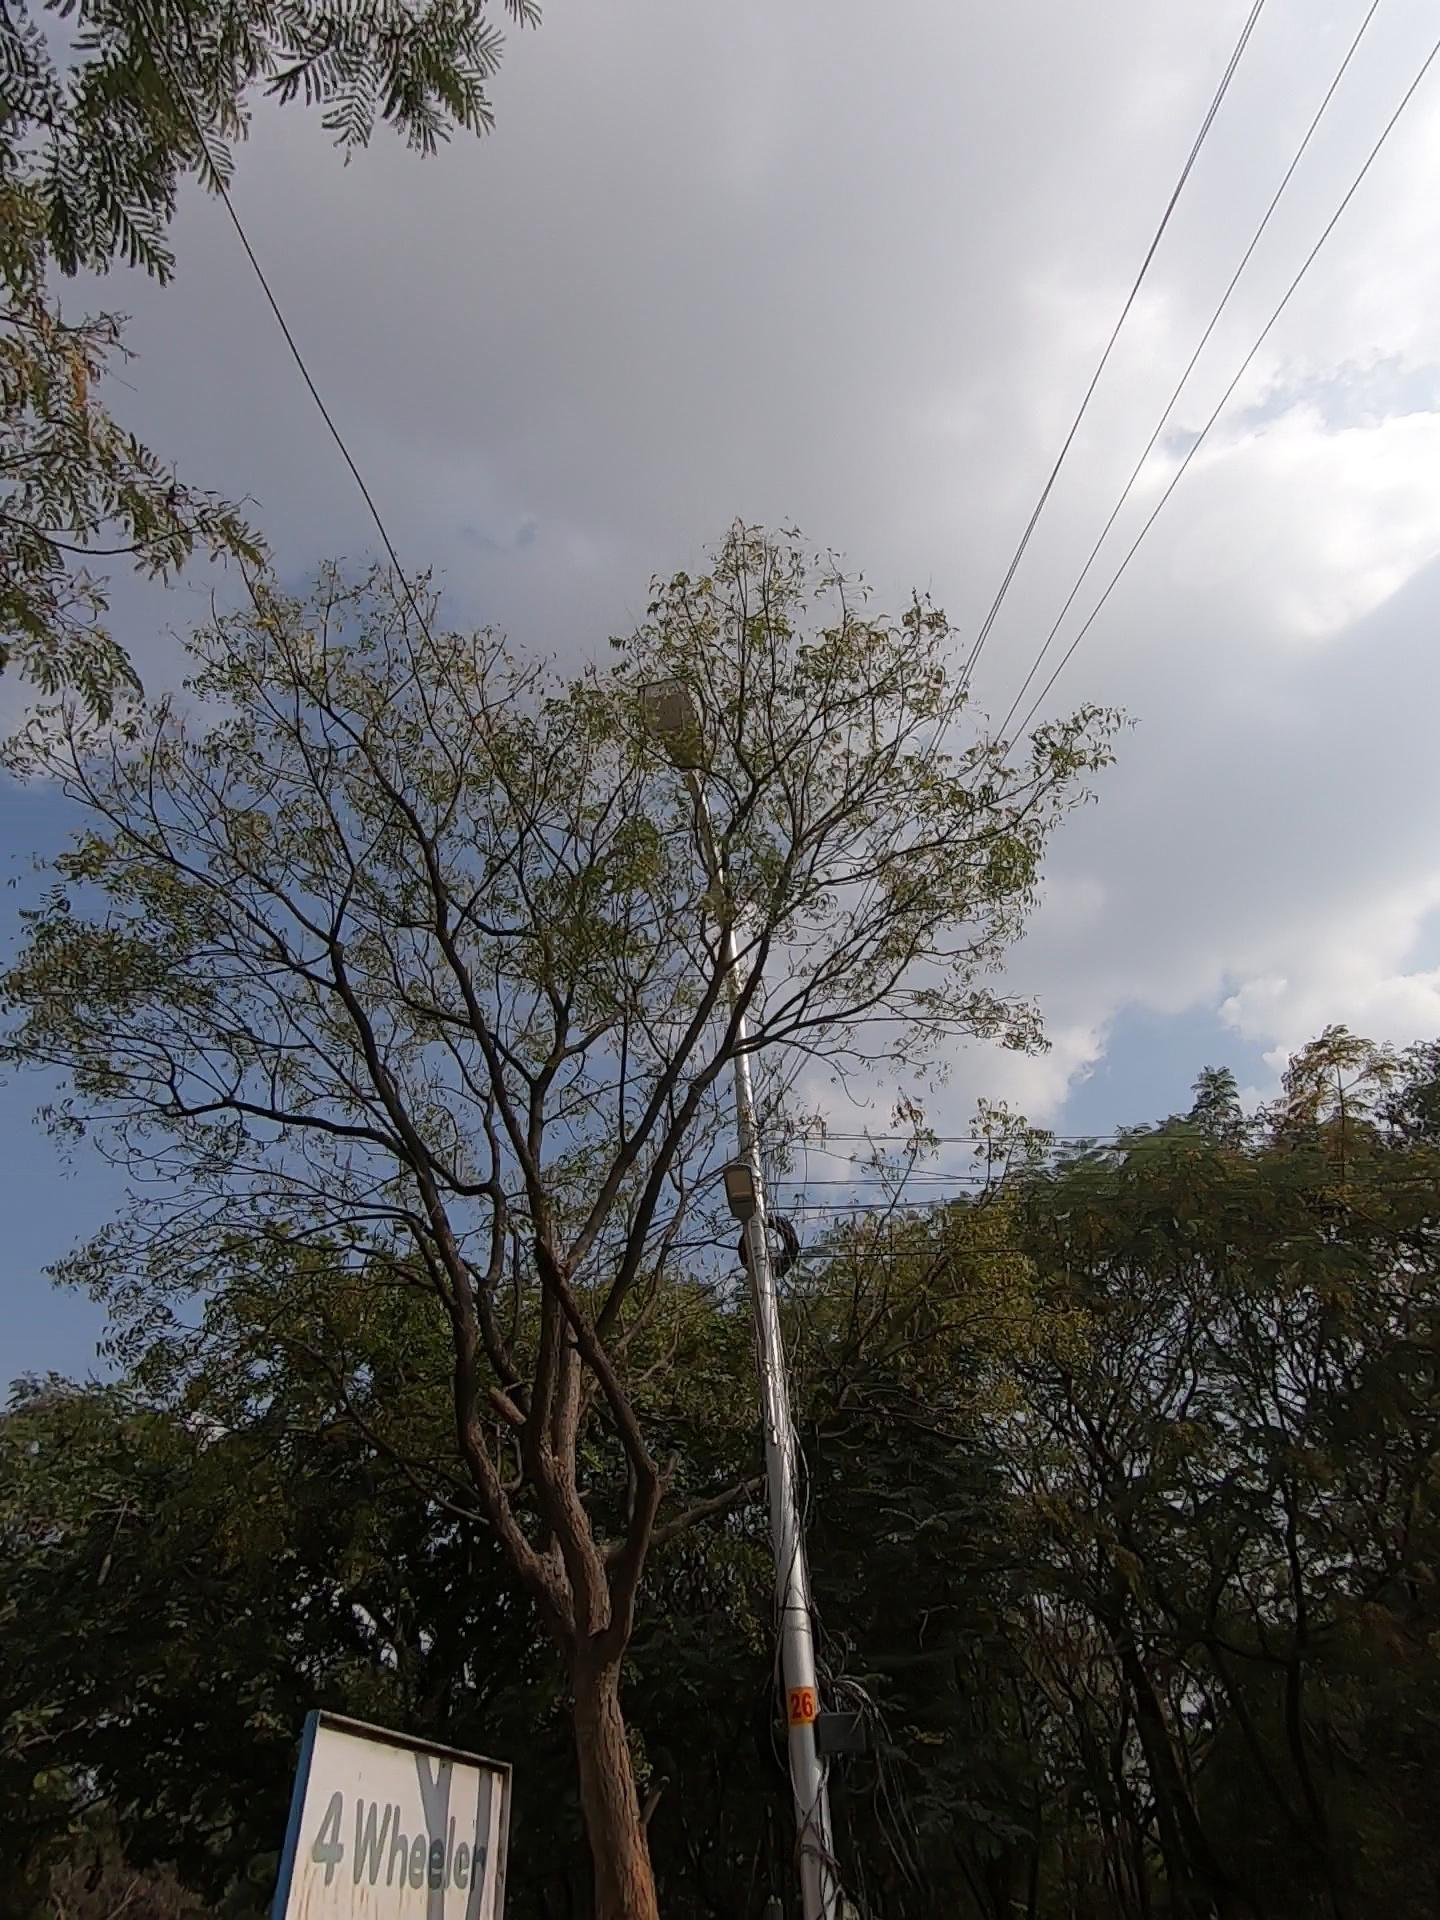off: (514, 661, 856, 1264)
